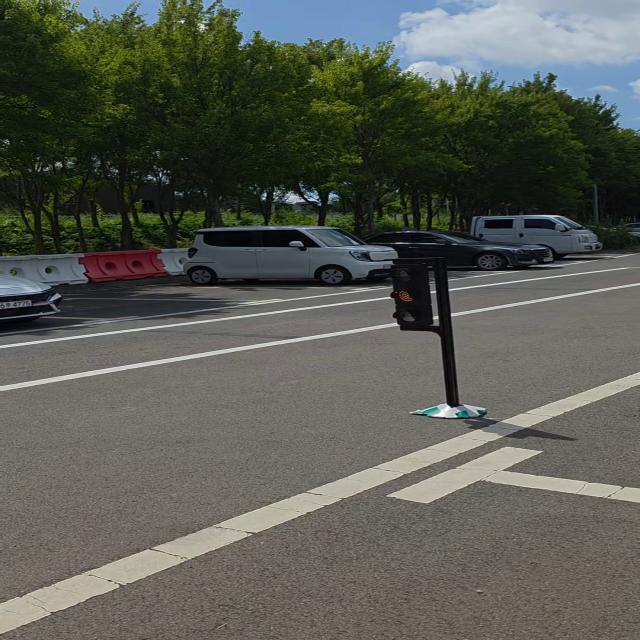yellow: (385, 256, 442, 332)
